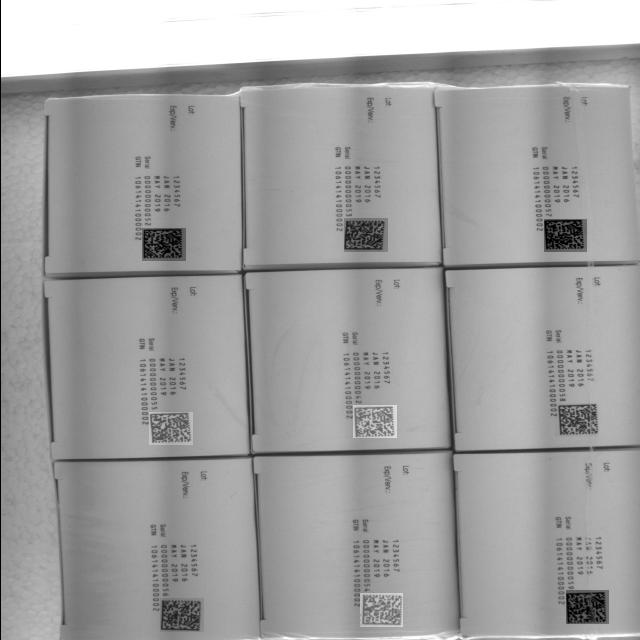DataMatrix: (554, 403, 598, 437), (343, 218, 387, 252), (159, 598, 203, 632), (565, 590, 608, 624), (359, 593, 402, 627), (352, 405, 396, 438), (148, 412, 192, 445), (141, 228, 185, 261), (543, 219, 586, 252)
